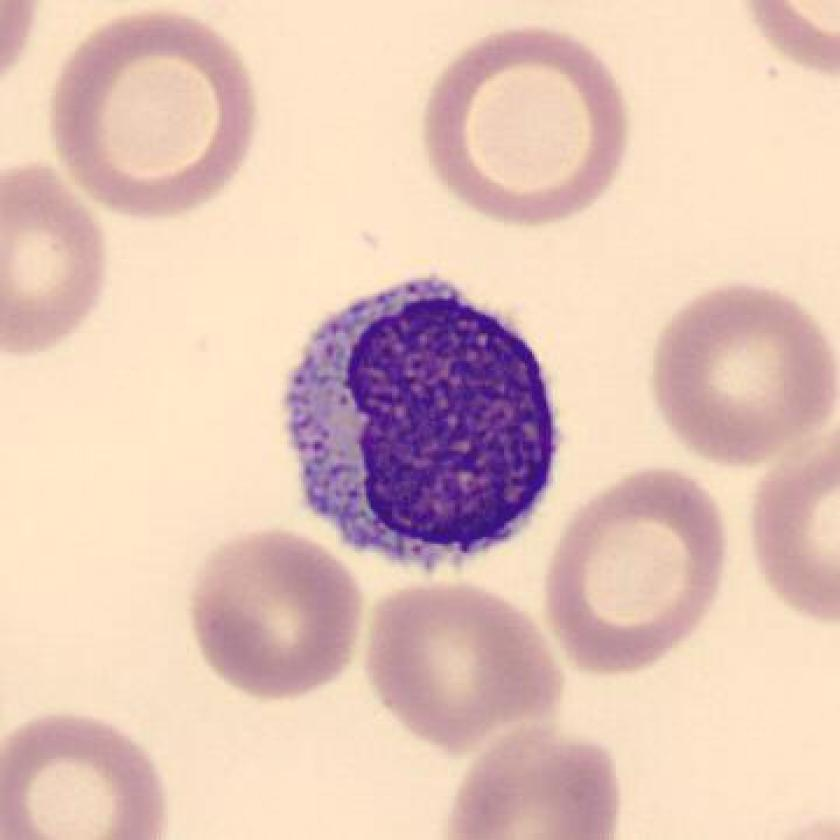lymphocyte: (267, 263, 575, 584)
